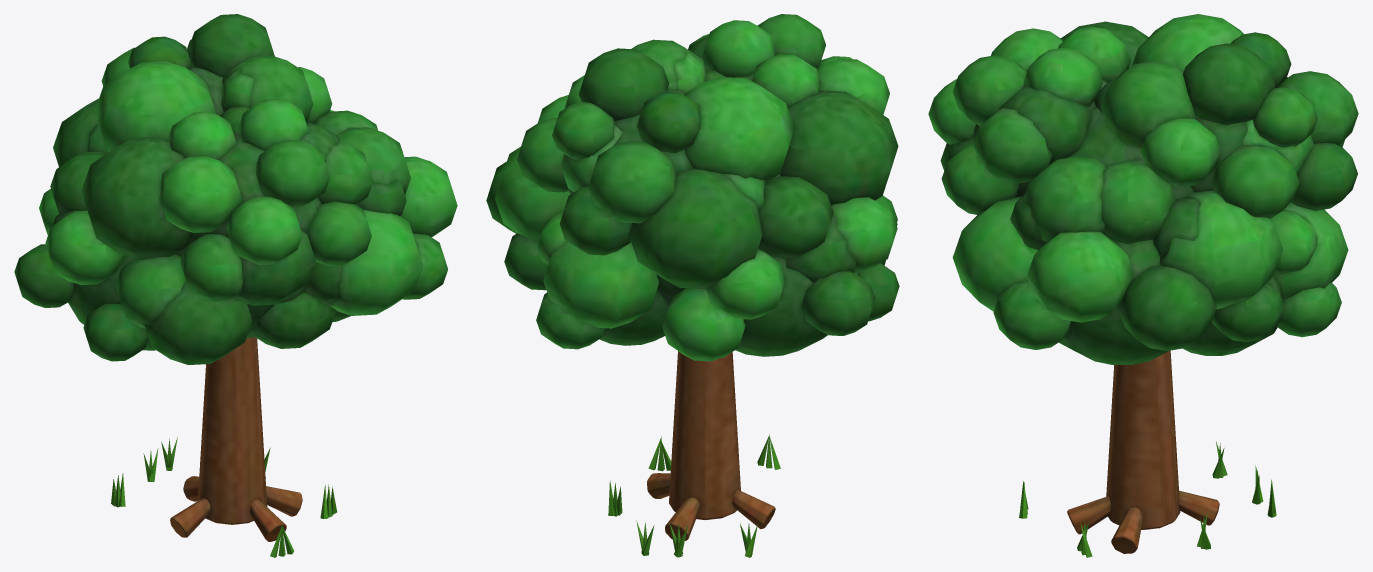
File: starfruit_tree.glb
3 views of the same model, side by side, from view 1: azimuth 30°, elevation 25°; view 2: azimuth 150°, elevation 25°; view 3: azimuth 270°, elevation 25° (orthographic). The views are drawn at different scales.
Visible parts, largest first — view 1: crown, starfruit_tree; view 2: crown, starfruit_tree; view 3: crown, starfruit_tree.
Part boxes in pixels (x1,y1,x2,y2): crown: (14, 14, 457, 364); starfruit_tree: (111, 337, 337, 557); crown: (486, 14, 899, 361); starfruit_tree: (608, 351, 780, 557); crown: (928, 14, 1358, 364); starfruit_tree: (1019, 350, 1276, 557).
Size of the model in its own units: 1.13 by 1.31 by 1.03.
Materials: 1 (1 with a texture image).
